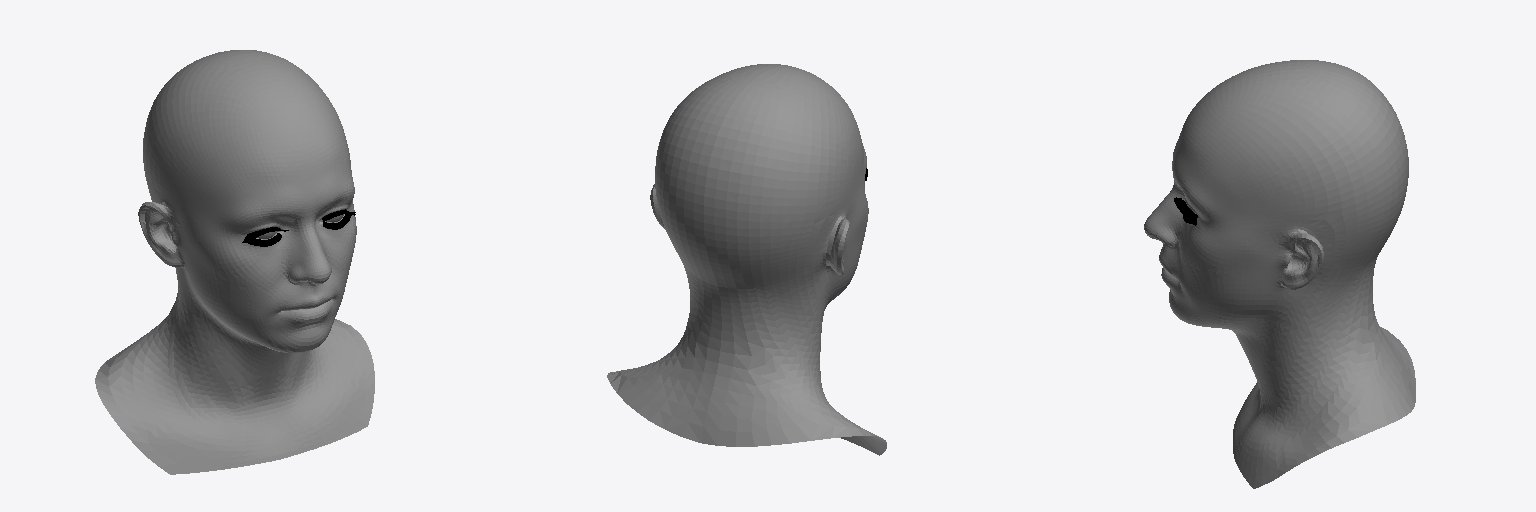
Rendered from identity098.obj.
3 renders of one model, left to right at view 1: azimuth 30°, elevation 25°; view 2: azimuth 150°, elevation 25°; view 3: azimuth 270°, elevation 25°, orthographic.
Bounding box in the file's own units: 24.81 × 33.8 × 22.32.